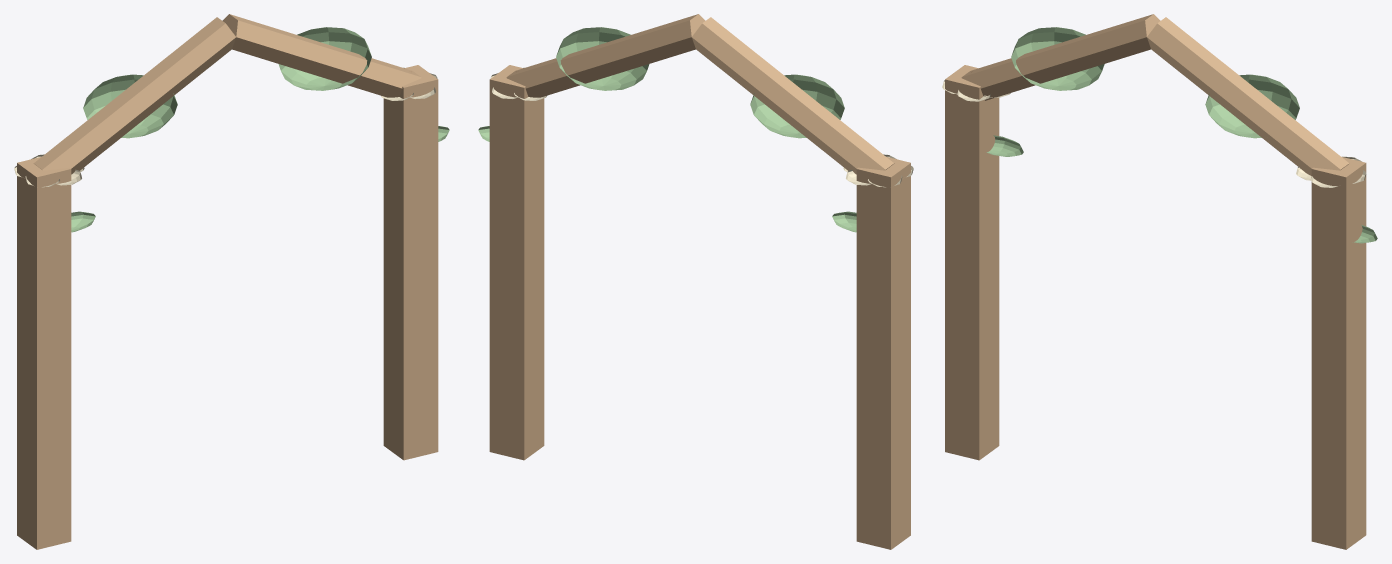
File: meadow-courier-picket-garden-gate__28.glb
3 views of the same model, side by side, from view 1: azimuth 30°, elevation 25°; view 2: azimuth 150°, elevation 25°; view 3: azimuth 330°, elevation 25° (orthographic).
Parts seen in each view (by area): view 1: meadow-courier-garden-gate; view 2: meadow-courier-garden-gate; view 3: meadow-courier-garden-gate.
Boxes of the visible parts, x1,y1,x2,y2 form: meadow-courier-garden-gate: (14,14,449,549); meadow-courier-garden-gate: (478,14,913,549); meadow-courier-garden-gate: (942,14,1377,549).
Size of the model in its own units: 1.99 by 2.1 by 0.32.
